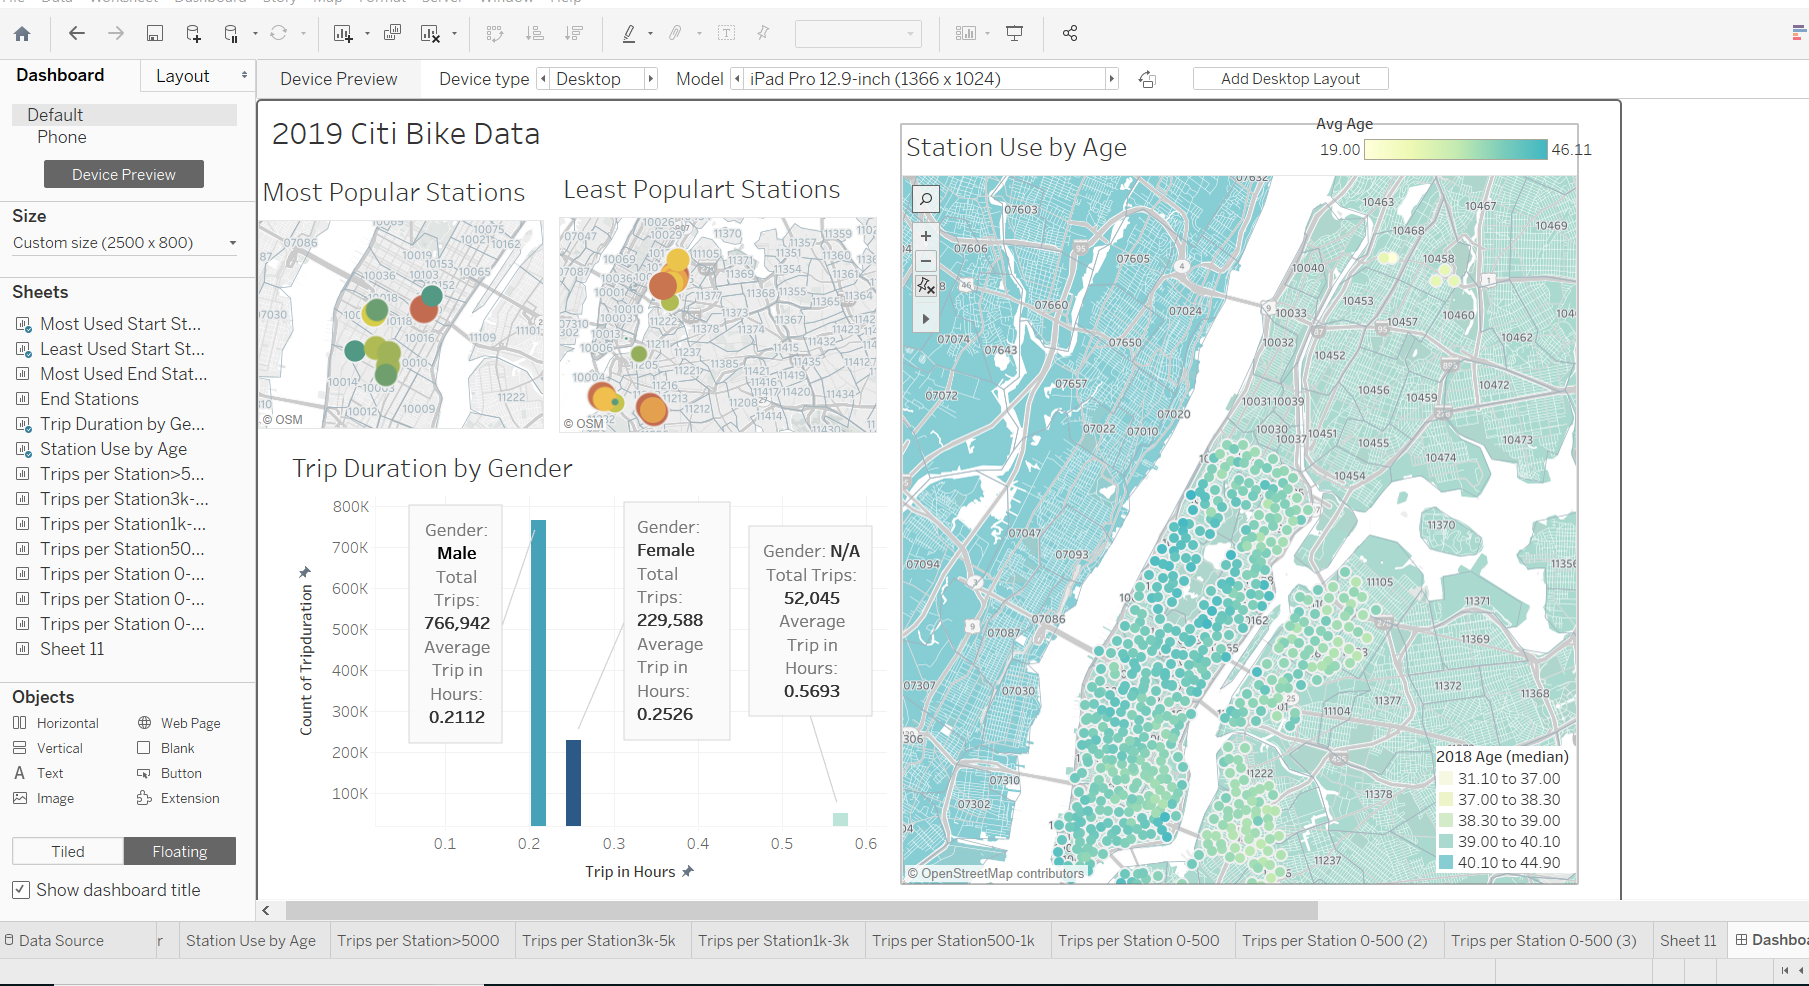

The dashboard page shown, as its layout file describes it:
{"tool":"tableau","page":{"name":"Dashboard 1","canvas":[2500,800],"ordinal":0},"visuals":[{"type":"title","box":[8,8,2484,50]},{"type":"legend","title":"Station Use by Age","param":"[federated.0xd4vqp0ujl98i1ec3qdu0vp1r7j].[usr:Calculation_1171217428033126400:qk","box":[1060,14,281,51]},{"type":"worksheet","title":"Station Use by Age","mark":"Automatic","rows":["start station latitude"],"cols":["start station longitude"],"box":[646,26,675,760]},{"type":"worksheet","title":"Least Used Start Stations","mark":"Automatic","rows":["start station latitude"],"cols":["start station longitude"],"box":[303,68,318,266]},{"type":"worksheet","title":"Most Used Start Stations","mark":"Automatic","rows":["start station latitude"],"cols":["start station longitude"],"box":[2,71,286,259]},{"type":"worksheet","title":"Trip Duration by Gender","mark":"Bar","rows":["tripduration"],"cols":["Calculation_1171217428035489793"],"box":[32,347,599,443]},{"type":"legend","title":"Station Use by Age","box":[1180,647,140,127]}]}

Visuals, with their boxes on the page's 2500x800 design canvas (x1, y1, x2, y2). These are canvas units, not pixel positions in the 1809x986 screenshot, which may show the page scaled, cropped or inside an application window:
title: region(8, 8, 2492, 58)
"Station Use by Age" legend: region(1060, 14, 1341, 65)
"Station Use by Age" worksheet: region(646, 26, 1321, 786)
"Least Used Start Stations" worksheet: region(303, 68, 621, 334)
"Most Used Start Stations" worksheet: region(2, 71, 288, 330)
"Trip Duration by Gender" worksheet (Bar marks): region(32, 347, 631, 790)
"Station Use by Age" legend: region(1180, 647, 1320, 774)
